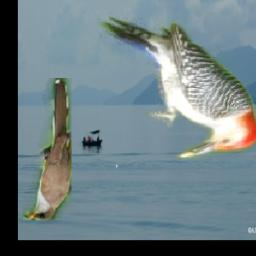Cuckoo: (24, 78, 72, 220)
Woodpecker: (93, 13, 256, 164)
